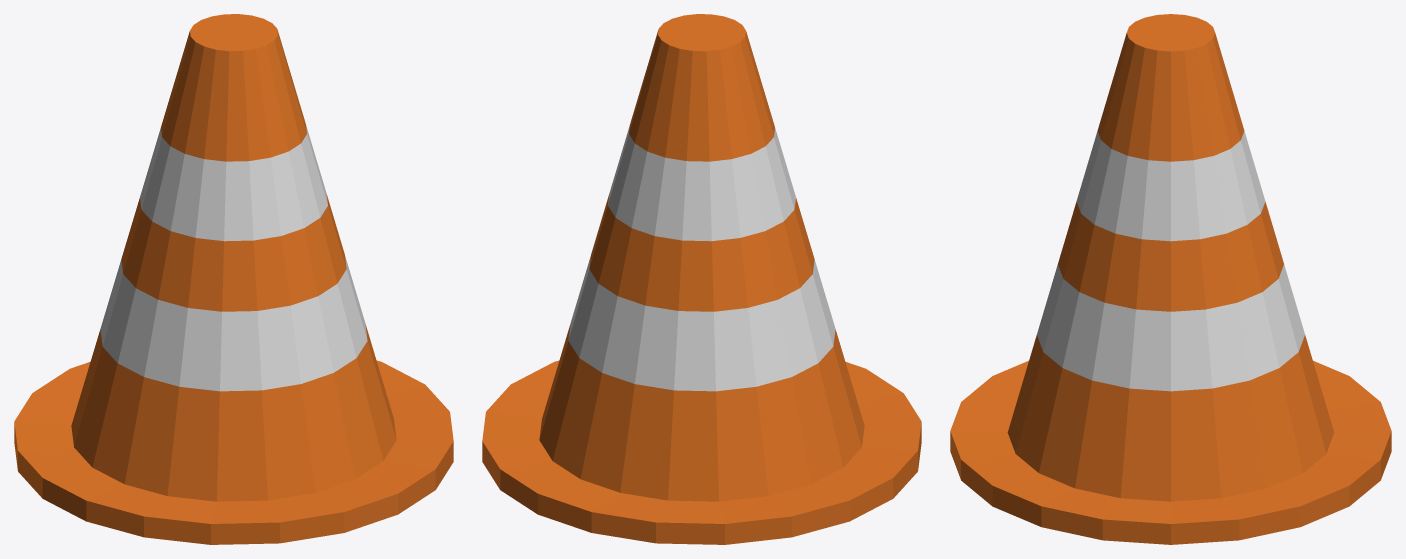
Rendered from Traffic Cone.fbx.
3 renders of one model, left to right at view 1: azimuth 30°, elevation 25°; view 2: azimuth 150°, elevation 25°; view 3: azimuth 270°, elevation 25°, orthographic.
Visible parts, largest first — view 1: Cylinder; view 2: Cylinder; view 3: Cylinder.
Boxes of the visible parts, <box> form: Cylinder: <box>14,14,453,544</box>; Cylinder: <box>482,14,921,544</box>; Cylinder: <box>950,14,1391,544</box>.
Size of the model in its own units: 200 by 210 by 200.
